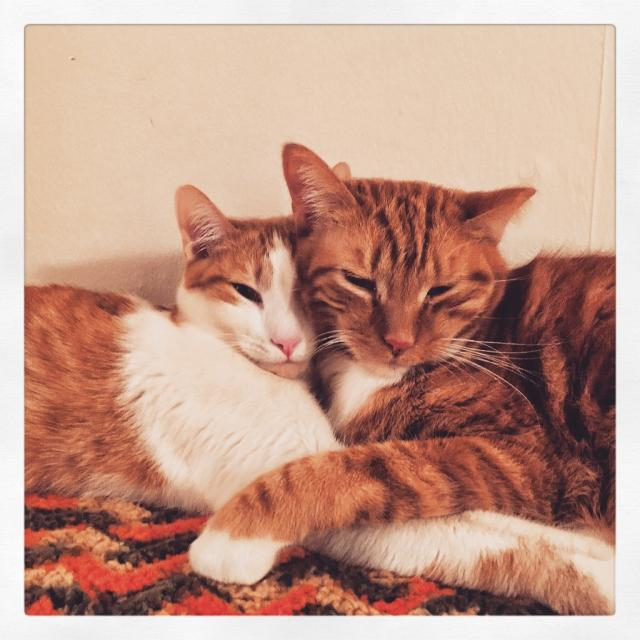Cat: (25, 160, 614, 614), (182, 135, 616, 584)
